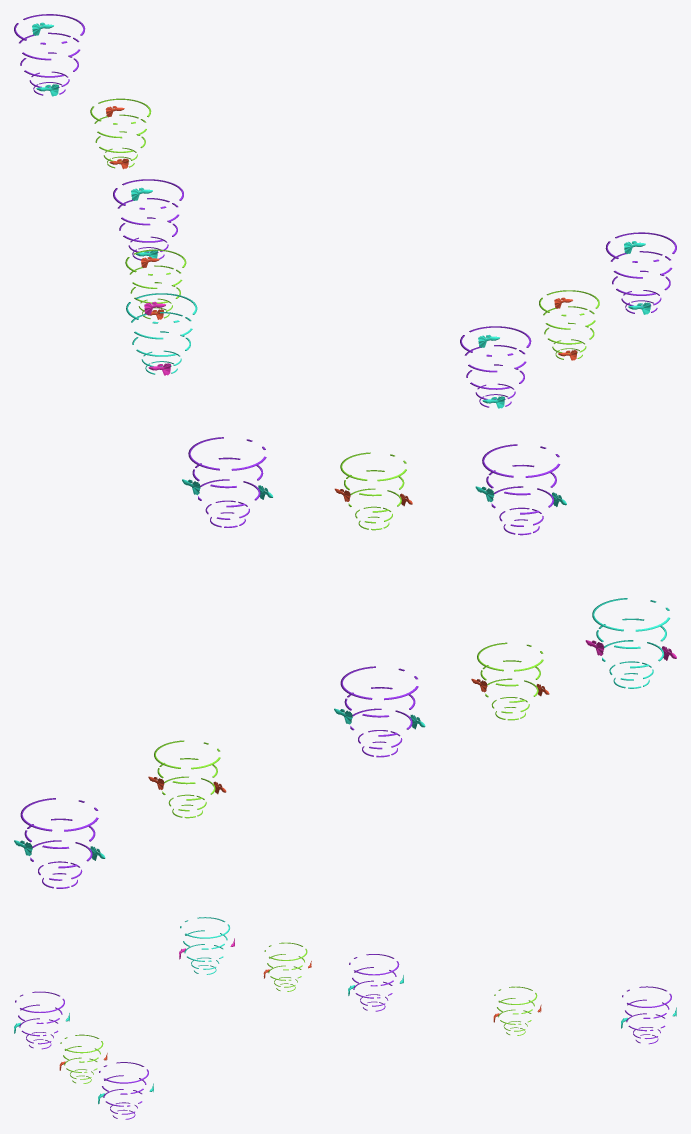
The model's file is Scifi_Combine.fbx.
3 renders of one model, top to bottom at view 1: azimuth 30°, elevation 25°; view 2: azimuth 150°, elevation 25°; view 3: azimuth 270°, elevation 25°, orthographic. The views are drawn at different scales.
Visible parts, largest first — view 1: SciFi_01; view 2: SciFi_01; view 3: SciFi_01.
Part boxes in pixels (bbox=[...]): SciFi_01: bbox=[14, 14, 676, 408]; SciFi_01: bbox=[14, 437, 676, 888]; SciFi_01: bbox=[14, 917, 676, 1119].
Bounding box in the file's own units: 5753 × 690 × 9705.
